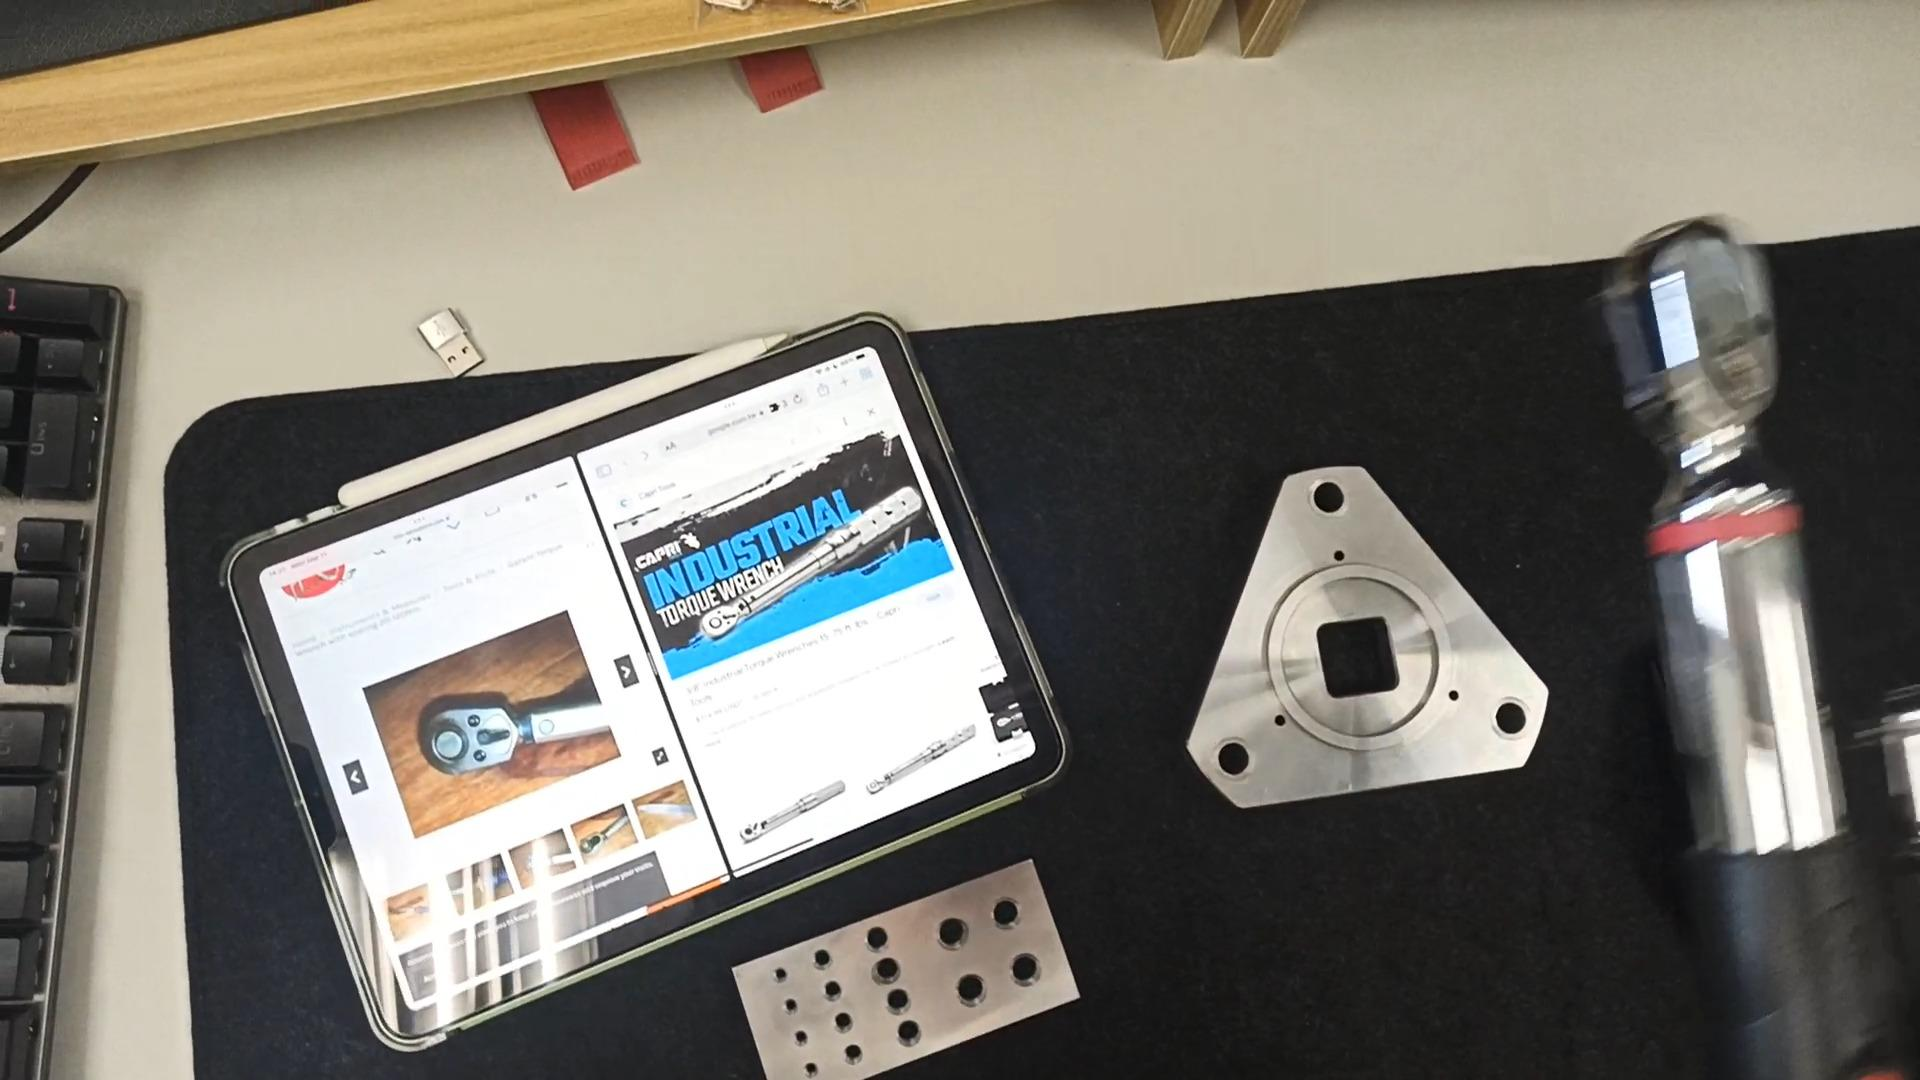Tool: (410, 702, 530, 778), (694, 597, 744, 642)
hole: (1477, 695, 1540, 746), (1291, 473, 1354, 518), (976, 895, 1040, 938), (916, 914, 980, 955), (1199, 740, 1258, 783), (997, 955, 1060, 994), (943, 975, 1004, 1013), (861, 960, 914, 989), (855, 926, 905, 955), (880, 990, 926, 1017), (893, 1025, 938, 1051), (810, 982, 848, 1005), (835, 1046, 873, 1067), (799, 952, 837, 973), (825, 1019, 862, 1039), (771, 997, 806, 1017), (783, 1030, 818, 1048), (761, 968, 795, 986), (791, 1059, 825, 1076)
